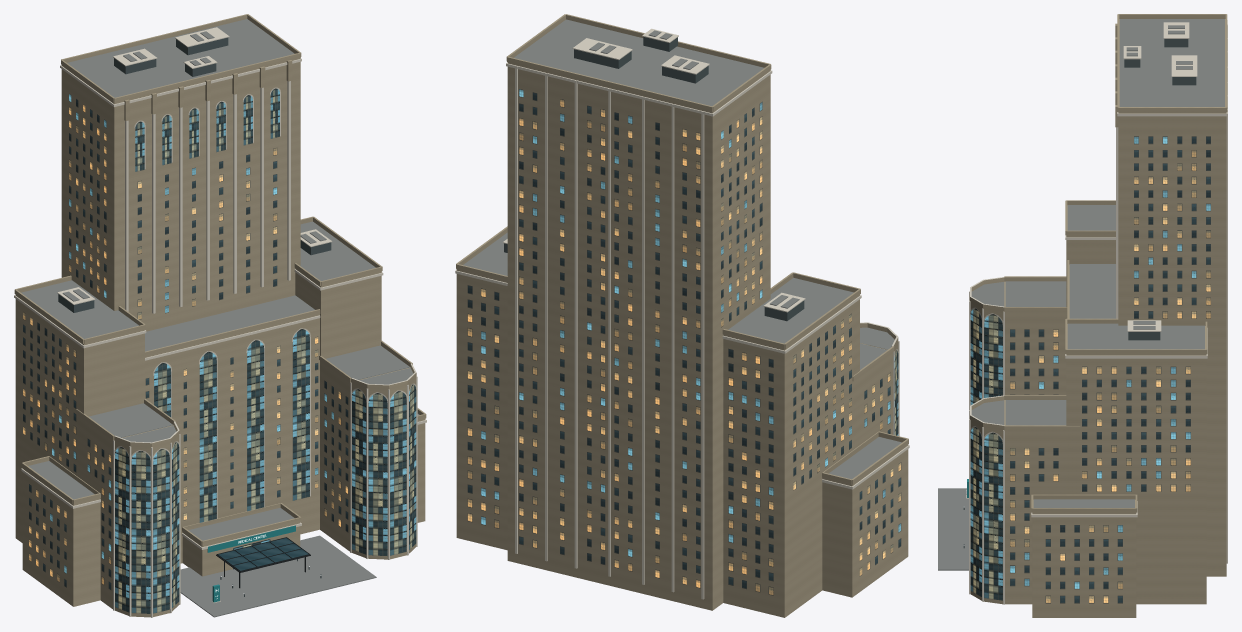
Rendered from hospital.glb.
3 renders of one model, left to right at view 1: azimuth 30°, elevation 25°; view 2: azimuth 150°, elevation 25°; view 3: azimuth 270°, elevation 25°, orthographic. The views are drawn at different scales.
Parts seen in each view (by area): view 1: Central tower, Roof terraces, Stepped wings, Front lantern bays, Lower central hall, Room windows, Central arched bays, Outer pavilions, Entrance apron, Tower ribs, Bay piers, Roof equipment (+6 smaller); view 2: Central tower, Stepped wings, Room windows, Roof terraces, Tower ribs, Outer pavilions, Roof equipment, Carved stonework; view 3: Stepped wings, Roof terraces, Central tower, Room windows, Outer pavilions, Front lantern bays, Roof equipment, Entrance apron, Tower ribs, Carved stonework, Bay piers, Arched surrounds.
Part boxes in pixels (bbox=[...]): Central tower: bbox=[61, 57, 300, 331]; Roof terraces: bbox=[14, 14, 426, 545]; Stepped wings: bbox=[15, 268, 410, 608]; Front lantern bays: bbox=[115, 377, 416, 617]; Lower central hall: bbox=[145, 314, 319, 563]; Room windows: bbox=[23, 94, 348, 590]; Central arched bays: bbox=[154, 329, 309, 522]; Outer pavilions: bbox=[22, 419, 425, 606]; Entrance apron: bbox=[180, 535, 376, 617]; Tower ribs: bbox=[124, 60, 292, 313]; Bay piers: bbox=[113, 376, 417, 617]; Roof equipment: bbox=[57, 27, 332, 312]; Central tower: bbox=[507, 62, 770, 610]; Stepped wings: bbox=[456, 269, 892, 617]; Room windows: bbox=[467, 89, 901, 595]; Roof terraces: bbox=[456, 14, 908, 484]; Tower ribs: bbox=[515, 66, 704, 599]; Outer pavilions: bbox=[822, 444, 908, 597]; Roof equipment: bbox=[502, 28, 805, 321]; Carved stonework: bbox=[455, 62, 909, 489]; Stepped wings: bbox=[1004, 205, 1206, 604]; Roof terraces: bbox=[970, 14, 1227, 512]; Central tower: bbox=[1118, 19, 1226, 576]; Room windows: bbox=[1010, 136, 1210, 603]; Outer pavilions: bbox=[1032, 499, 1136, 617]; Front lantern bays: bbox=[970, 302, 1003, 604]; Roof equipment: bbox=[1123, 22, 1197, 340]; Entrance apron: bbox=[938, 488, 968, 570]; Tower ribs: bbox=[1115, 23, 1227, 563]; Carved stonework: bbox=[1031, 20, 1227, 517]; Bay piers: bbox=[969, 291, 1004, 604]; Arched surrounds: bbox=[970, 307, 1003, 600].
Bounding box in the file's own units: 105 × 132 × 72.33.
Materials: 11 (4 with a texture image).
